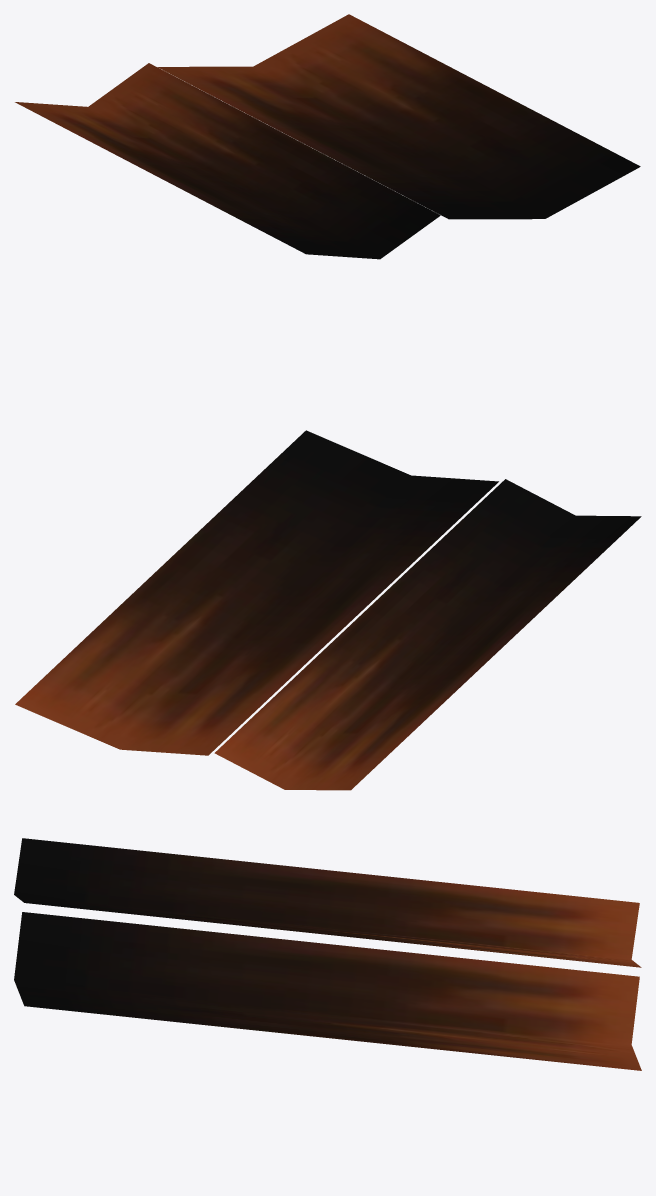
File: EarthQuake05.glb
3 views of the same model, one above another, from view 1: azimuth 30°, elevation 25°; view 2: azimuth 150°, elevation 25°; view 3: azimuth 270°, elevation 25° (orthographic). The views are drawn at different scales.
Parts seen in each view (by area): view 1: model_EarthQuake05; view 2: model_EarthQuake05; view 3: model_EarthQuake05.
Part boxes in pixels (x1,y1,x2,y2): model_EarthQuake05: (15, 14, 640, 259); model_EarthQuake05: (15, 430, 641, 790); model_EarthQuake05: (14, 838, 641, 1070).
Bounding box in the file's own units: 1.19 × 0.6352 × 1.82.
1 material, 1 textured.
